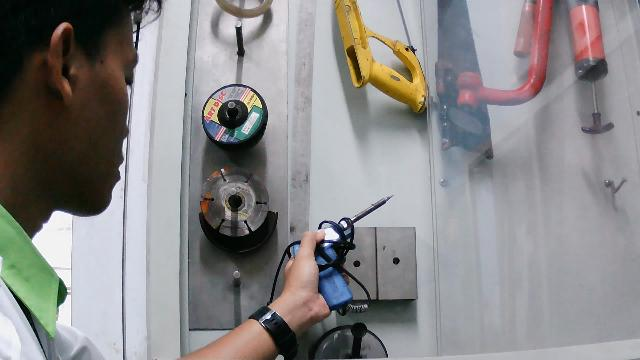solder_electrical: (290, 188, 397, 320)
